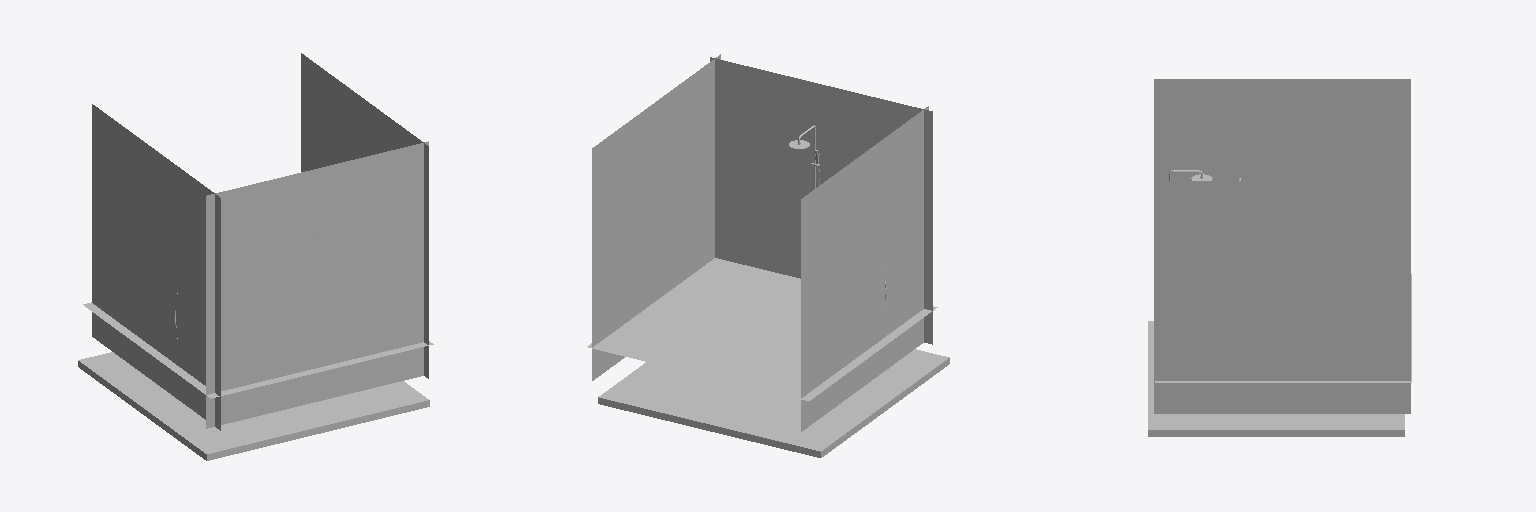
The model's file is uploads_files_2519757_showehead.obj.
The picture shows the model from 3 angles: view 1: azimuth 30°, elevation 25°; view 2: azimuth 150°, elevation 25°; view 3: azimuth 270°, elevation 25°; orthographic projection.
Parts seen in each view (by area): view 1: Plane.001_Plane.002, Plane.002_Plane.004, Plane.004_Plane.006, Plane.005_Plane.009, Plane.003_Plane.005; view 2: Plane.002_Plane.004, Plane.001_Plane.002, Plane.005_Plane.009, Plane.003_Plane.005, Plane.004_Plane.006; view 3: Plane.005_Plane.009, Plane.002_Plane.004, Plane.004_Plane.006, Plane.003_Plane.005.
Part boxes in pixels (x1,y1,x2,y2): Plane.001_Plane.002: (206,141,428,428); Plane.002_Plane.004: (92,104,220,430); Plane.004_Plane.006: (78,352,429,460); Plane.005_Plane.009: (301,53,428,378); Plane.003_Plane.005: (83,302,433,398); Plane.002_Plane.004: (801,106,928,431); Plane.001_Plane.002: (710,57,932,344); Plane.005_Plane.009: (592,54,720,380); Plane.003_Plane.005: (587,258,937,400); Plane.004_Plane.006: (598,349,949,457); Plane.005_Plane.009: (1154,181,1410,413); Plane.002_Plane.004: (1154,79,1410,180); Plane.004_Plane.006: (1148,321,1404,436); Plane.003_Plane.005: (1155,274,1411,382).
Bounding box in the file's own units: 3.15 × 3.35 × 3.13.